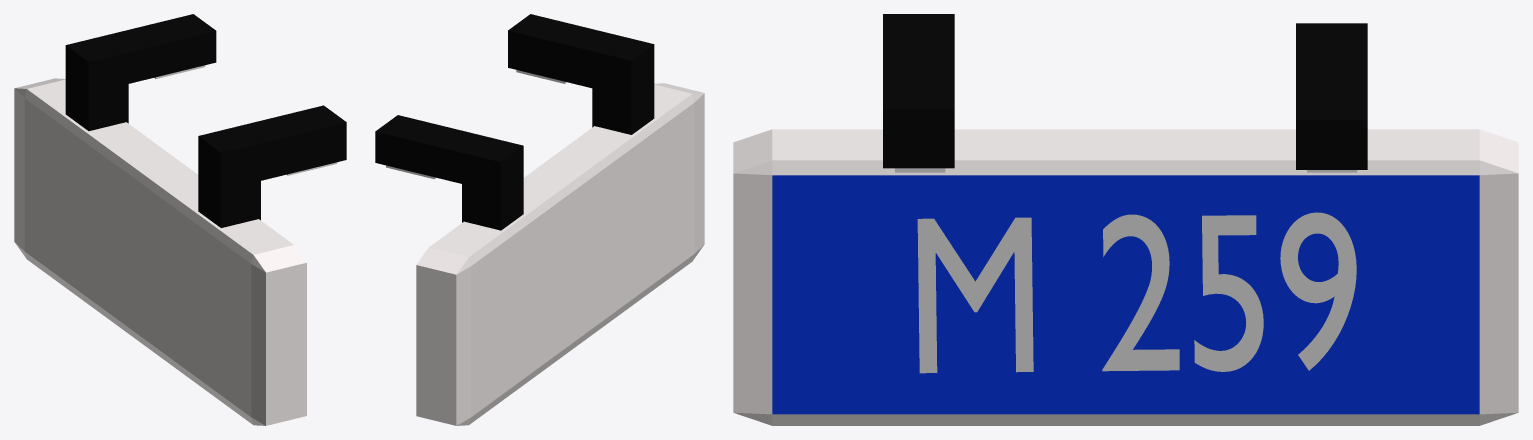
File: UK_motorway_start_1(no_pillar).fbx
3 views of the same model, side by side, from view 1: azimuth 30°, elevation 25°; view 2: azimuth 150°, elevation 25°; view 3: azimuth 270°, elevation 25° (orthographic). The views are drawn at different scales.
Parts seen in each view (by area): view 1: Cube, Cube.001, Cube.002; view 2: Cube, Cube.001, Cube.002; view 3: Cube, Text, Cube.001, Cube.002.
Boxes of the visible parts, <box> form: Cube: <box>14,78,306,425</box>; Cube.001: <box>198,105,346,227</box>; Cube.002: <box>65,14,216,130</box>; Cube: <box>416,83,704,425</box>; Cube.001: <box>508,14,654,134</box>; Cube.002: <box>375,115,523,230</box>; Cube: <box>733,129,1518,425</box>; Text: <box>917,212,1356,373</box>; Cube.001: <box>883,14,954,168</box>; Cube.002: <box>1296,23,1367,169</box>.
Size of the model in its own units: 6.69 by 11.8 by 21.91.
